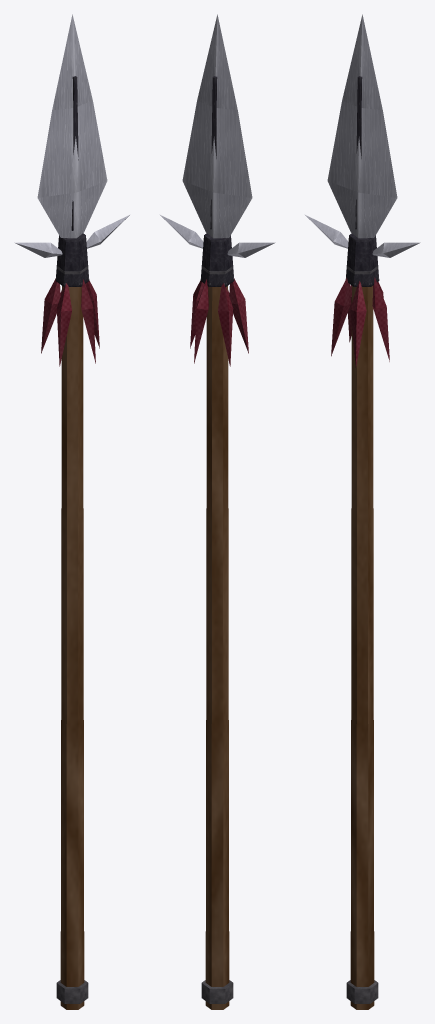
The model's file is Spear.fbx.
The picture shows the model from 3 angles, left to right: view 1: azimuth 30°, elevation 25°; view 2: azimuth 150°, elevation 25°; view 3: azimuth 330°, elevation 25°; orthographic projection.
Visible parts, largest first — view 1: Handle, Head; view 2: Handle, Head; view 3: Handle, Head.
Part boxes in pixels (left/top/right/bottom): Handle: left=56, top=266, right=88, bottom=1009; Head: left=14, top=14, right=130, bottom=366; Handle: left=201, top=266, right=233, bottom=1009; Head: left=159, top=14, right=275, bottom=366; Handle: left=346, top=266, right=378, bottom=1009; Head: left=304, top=14, right=420, bottom=367.
Size of the model in its own units: 79.83 by 650 by 35.77.
Materials: 1 (1 with a texture image).
